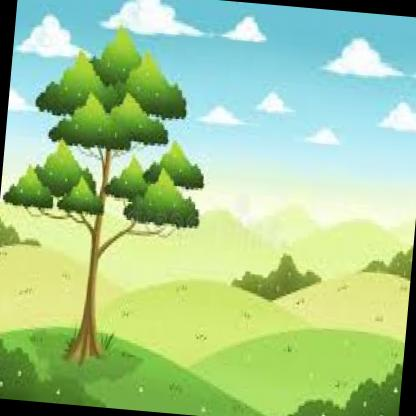root_none: (62, 336, 108, 382)
trunk_straight: (78, 254, 104, 333)
